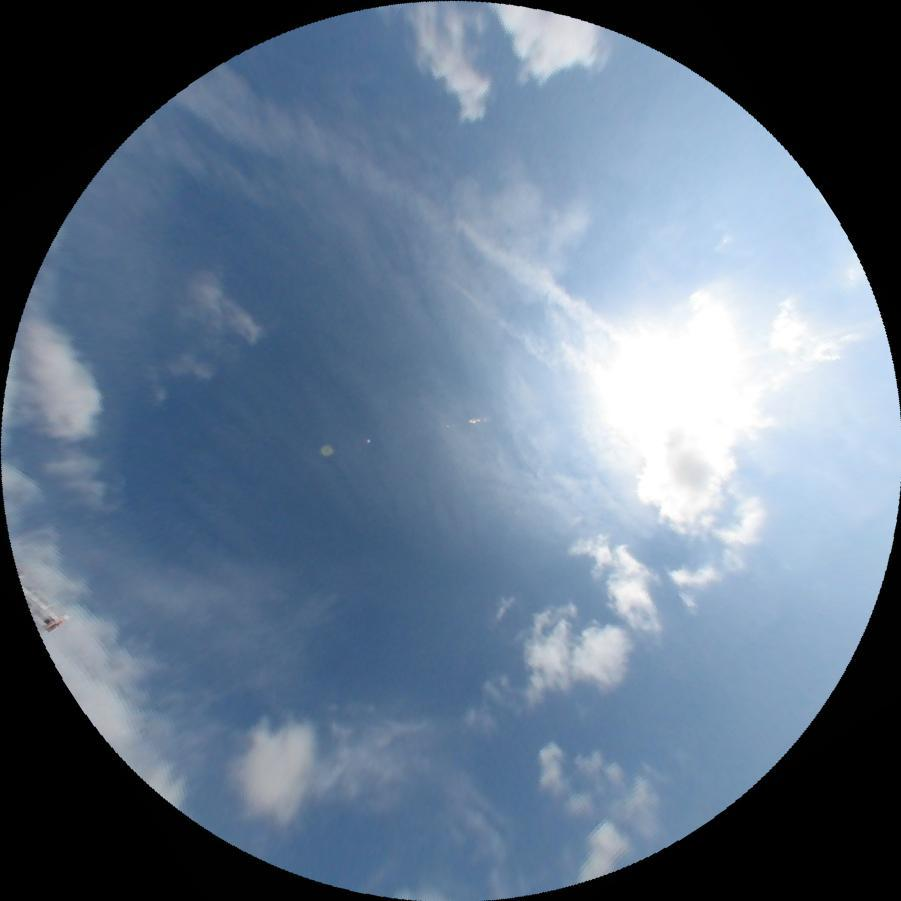contrail veryold: (171, 46, 639, 363), (433, 277, 606, 392)
parasite: (729, 315, 881, 365)
sun: (609, 328, 749, 443)
